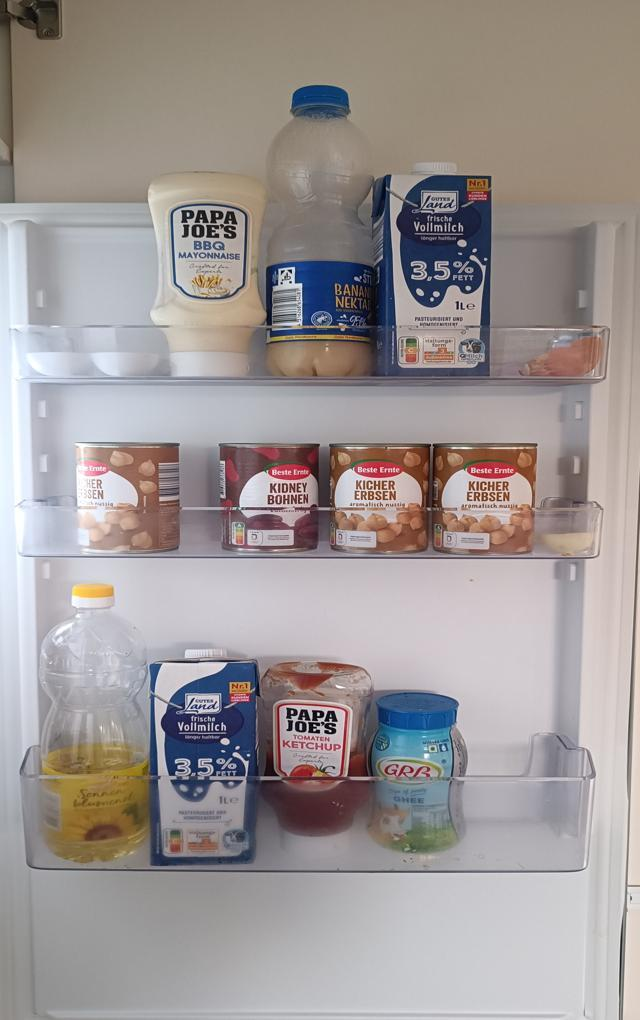bananajuice: (264, 85, 384, 390)
chickpeas: (76, 439, 183, 553), (432, 443, 537, 556), (330, 444, 429, 554)
ghee: (367, 690, 467, 854)
kidneybeans: (219, 442, 321, 555)
mayoniasie: (145, 171, 269, 384)
milk: (369, 159, 494, 382), (147, 649, 265, 869)
oil: (41, 580, 151, 864)
tomatoketchup: (260, 662, 372, 851)
